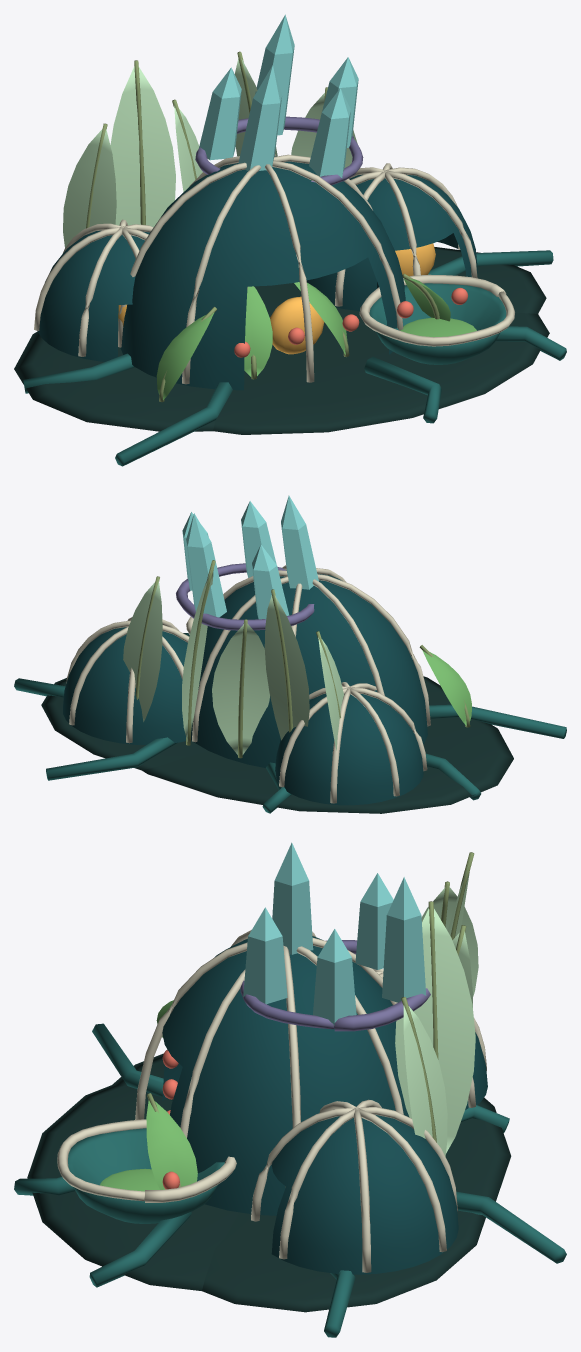
Rendered from res_memory_enclave_a.obj.
The picture shows the model from 3 angles, top to bottom: view 1: azimuth 30°, elevation 25°; view 2: azimuth 150°, elevation 25°; view 3: azimuth 270°, elevation 25°; orthographic projection. The views are drawn at different scales.
Visible parts, largest first — view 1: inhabited_shell.006, irregular_anchoring_lobe.011, irregular_anchoring_lobe.009, inhabited_shell.008, bent_living_blade.010, inhabited_shell.007, open_living_cup.002, bent_living_blade.009, irregular_anchoring_lobe.010, grown_cup_lip.002, cleaved_mineral.003, cleaved_mineral.002 (+28 smaller); view 2: inhabited_shell.006, irregular_anchoring_lobe.009, inhabited_shell.008, inhabited_shell.007, bent_living_blade.011, bent_living_blade.010, bent_living_blade.013, irregular_anchoring_lobe.010, cleaved_mineral.001, cleaved_mineral.003, anchoring_root.022, memory_crown_base (+24 smaller); view 3: inhabited_shell.006, inhabited_shell.007, irregular_anchoring_lobe.011, irregular_anchoring_lobe.010, bent_living_blade.012, open_living_cup.002, irregular_anchoring_lobe.009, cleaved_mineral.001, bent_living_blade.013, grown_cup_lip.002, cleaved_mineral.003, cleaved_mineral.004 (+23 smaller).
Part boxes in pixels (x1,y1,x2,y2): inhabited_shell.006: [120, 156, 405, 390]; irregular_anchoring_lobe.011: [213, 313, 549, 434]; irregular_anchoring_lobe.009: [14, 286, 278, 431]; inhabited_shell.008: [37, 230, 149, 361]; bent_living_blade.010: [110, 66, 175, 227]; inhabited_shell.007: [296, 174, 477, 311]; open_living_cup.002: [369, 283, 506, 364]; bent_living_blade.009: [63, 129, 116, 247]; irregular_anchoring_lobe.010: [264, 247, 546, 327]; grown_cup_lip.002: [359, 274, 514, 346]; cleaved_mineral.003: [238, 65, 282, 171]; cleaved_mineral.002: [199, 67, 241, 160]; inhabited_shell.006: [191, 570, 427, 767]; irregular_anchoring_lobe.009: [142, 717, 513, 813]; inhabited_shell.008: [275, 689, 423, 805]; inhabited_shell.007: [63, 627, 187, 744]; bent_living_blade.011: [212, 623, 269, 754]; bent_living_blade.010: [264, 595, 309, 740]; bent_living_blade.013: [123, 581, 162, 721]; irregular_anchoring_lobe.010: [41, 678, 208, 770]; cleaved_mineral.001: [186, 513, 226, 617]; cleaved_mineral.003: [281, 495, 318, 589]; anchoring_root.022: [46, 737, 177, 780]; memory_crown_base: [176, 563, 314, 630]; inhabited_shell.006: [162, 936, 409, 1215]; inhabited_shell.007: [271, 1105, 458, 1274]; irregular_anchoring_lobe.011: [27, 1085, 239, 1290]; irregular_anchoring_lobe.010: [202, 1210, 485, 1312]; bent_living_blade.012: [395, 908, 475, 1153]; open_living_cup.002: [68, 1128, 224, 1223]; irregular_anchoring_lobe.009: [112, 1053, 511, 1201]; cleaved_mineral.001: [382, 877, 426, 1002]; bent_living_blade.013: [403, 1005, 447, 1156]; grown_cup_lip.002: [57, 1119, 236, 1202]; cleaved_mineral.003: [272, 842, 313, 954]; cleaved_mineral.004: [243, 907, 287, 1004].
Size of the model in its own units: 4.93 by 2.51 by 3.79.
